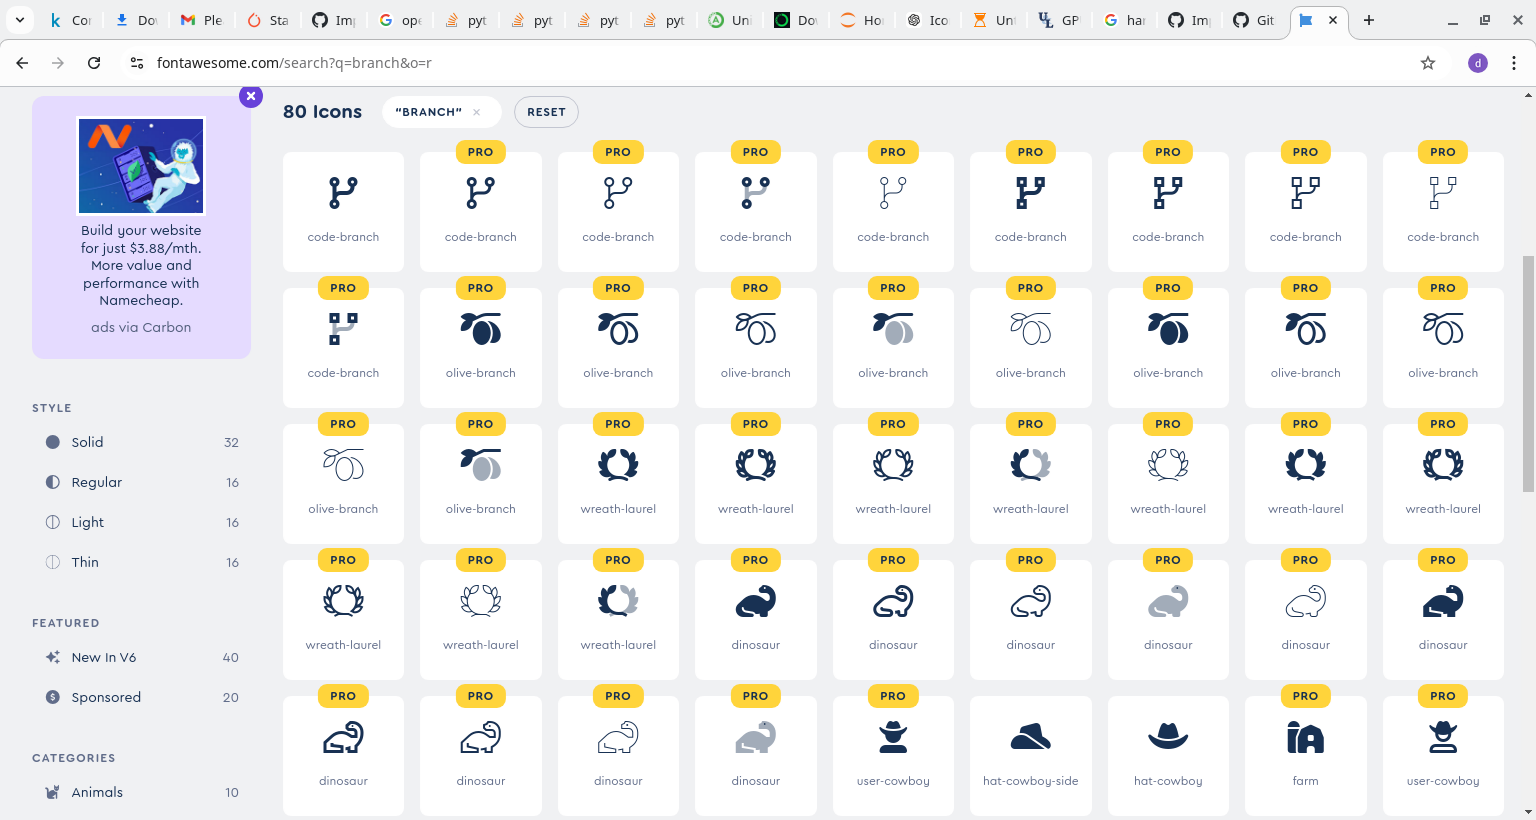branch: (309, 166, 368, 212), (590, 171, 640, 215), (729, 169, 773, 213), (1146, 168, 1190, 212), (1006, 169, 1048, 213), (320, 305, 364, 346), (1285, 169, 1327, 211), (455, 171, 499, 210), (869, 171, 910, 210), (1421, 173, 1462, 212)
